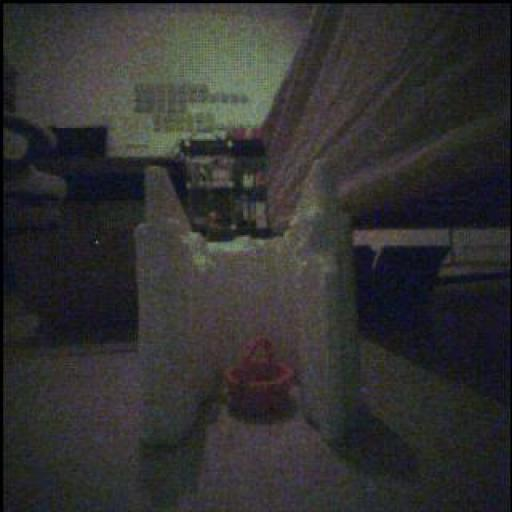basket: (225, 339, 295, 416)
